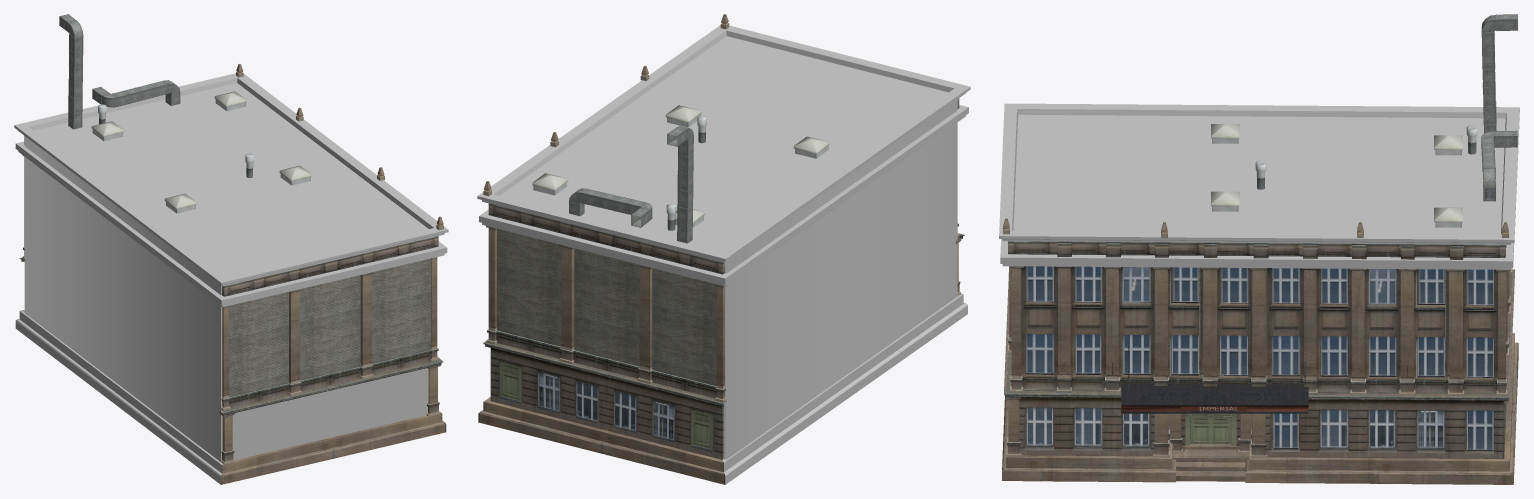
The model's file is u2NWBuild6.gltf.
3 views of the same model, side by side, from view 1: azimuth 30°, elevation 25°; view 2: azimuth 150°, elevation 25°; view 3: azimuth 270°, elevation 25° (orthographic). The views are drawn at different scales.
Parts seen in each view (by area): view 1: u2NWBuild6; view 2: u2NWBuild6; view 3: u2NWBuild6.
Part boxes in pixels (<box>): u2NWBuild6: <box>14,14,448,484</box>; u2NWBuild6: <box>477,14,970,484</box>; u2NWBuild6: <box>999,14,1519,484</box>.
Bounding box in the file's own units: 6.15 × 7.01 × 9.07.
